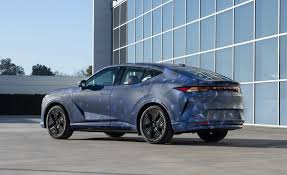car: (39, 60, 249, 145)
